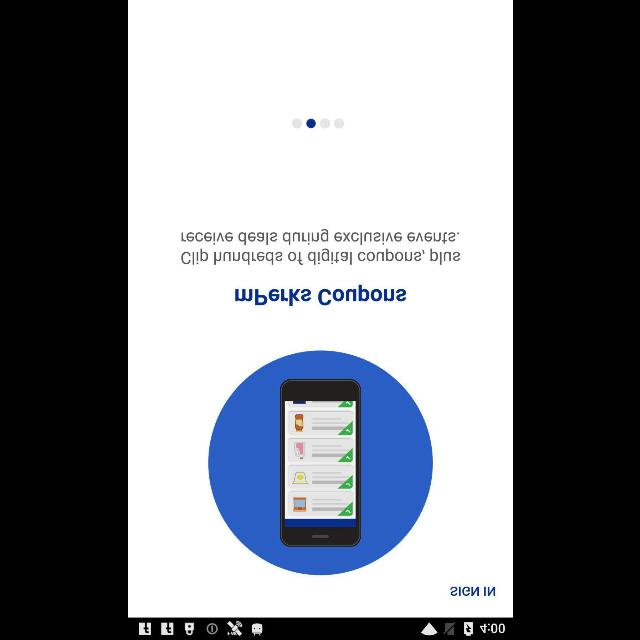image: (208, 350, 432, 576)
pageindicator: (290, 117, 344, 129)
text: (180, 228, 460, 266), (234, 284, 406, 306), (448, 585, 496, 597)
uppertaskbar: (128, 617, 512, 639)
